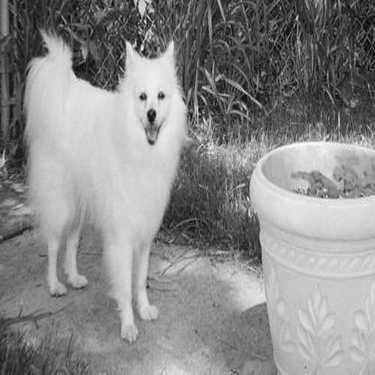dog: (11, 21, 191, 346)
